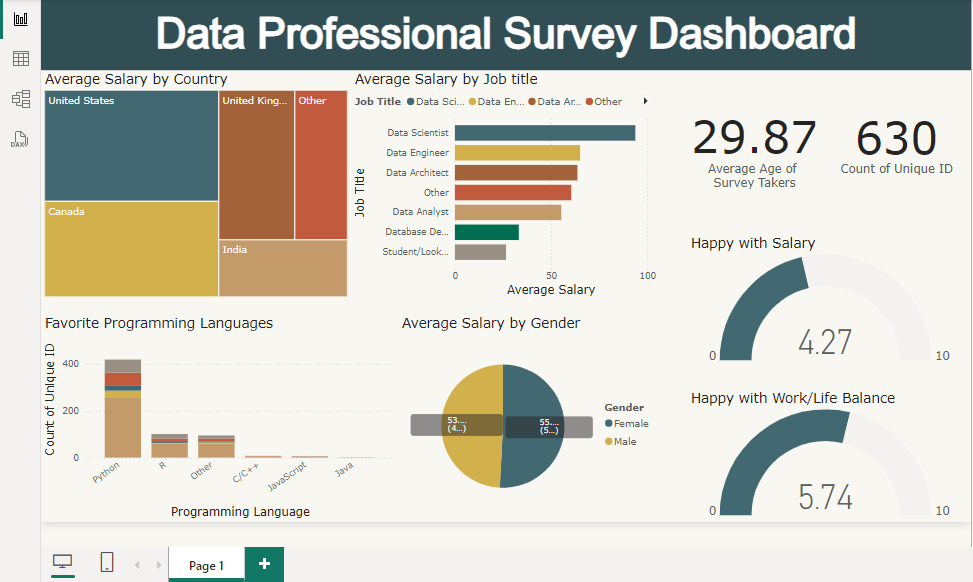

The page's visual inventory and layout, read from the dashboard file:
{"tool":"powerbi","page":{"name":"Page 1","canvas":[1280,720],"ordinal":0},"visuals":[{"type":"card","fields":{"Values":["Avg(Data Professional Survey.Q10 - Current Age)"]},"box":[888.6,98.3,185.5,196.6],"z":1000},{"type":"barChart","title":"Average Salary by Job title","fields":{"Category":["Data Professional Survey.Q1 - Which Title Best Fits your Current Role?.1"],"Y":["Avg(Data Professional Survey.Average Salary)"],"Series":["Data Professional Survey.Q1 - Which Title Best Fits your Current Role?.1"]},"box":[426.7,98.3,424.8,317.2],"z":2000},{"type":"columnChart","title":"Favorite Programming Languages","fields":{"Category":["Data Professional Survey.Q5 - Favorite Programming Language.1"],"Y":["CountNonNull(Data Professional Survey.Unique ID)"],"Series":["Data Professional Survey.Q1 - Which Title Best Fits your Current Role?.1"]},"box":[0,434.1,491.6,285.7],"z":3000},{"type":"treemap","title":"Average Salary by Country","fields":{"Group":["Data Professional Survey.Q11 - Which Country do you live in?.1"],"Values":["Avg(Data Professional Survey.Average Salary)"]},"box":[0,98.3,426.7,317.2],"z":4000},{"type":"gauge","title":"Happy with Salary ","fields":{"Y":["Avg(Data Professional Survey.Q6 - How Happy are you in your Current Position with the following? (Salary))"],"MinValue":["Min(Data Professional Survey.Q6 - How Happy are you in your Current Position with the following? (Salary))"],"MaxValue":["Max(Data Professional Survey.Q6 - How Happy are you in your Current Position with the following? (Salary))"]},"box":[888.6,322.8,391.4,183.7],"z":5000},{"type":"gauge","title":"Happy with Work/Life Balance","fields":{"Y":["Avg(Data Professional Survey.Q6 - How Happy are you in your Current Position with the following? (Work/Life Balance))"],"MinValue":["Min(Data Professional Survey.Q6 - How Happy are you in your Current Position with the following? (Work/Life Balance))"],"MaxValue":["Max(Data Professional Survey.Q6 - How Happy are you in your Current Position with the following? (Work/Life Balance))"]},"box":[888.6,536.1,391.4,183.7],"z":6000},{"type":"pieChart","fields":{"Category":["Data Professional Survey.Q9 - Male/Female?"],"Y":["Avg(Data Professional Survey.Average Salary)"]},"box":[491.6,434.1,359.9,285.7],"z":7000},{"type":"card","fields":{"Values":["Count(Data Professional Survey.Unique ID)"]},"box":[1075,98,205,197],"z":7001},{"type":"textbox","box":[0,0,1280,98.3],"z":7007}]}

Visuals, with their boxes on the page's 1280x720 design canvas (x1, y1, x2, y2). These are canvas units, not pixel positions in the 973x582 screenshot, which may show the page scaled, cropped or inside an application window:
card - Avg(Data Professional Survey.Q10 - Current Age): bbox(889, 98, 1074, 295)
"Average Salary by Job title" barChart: bbox(427, 98, 852, 416)
"Favorite Programming Languages" columnChart: bbox(0, 434, 492, 720)
"Average Salary by Country" treemap: bbox(0, 98, 427, 416)
"Happy with Salary " gauge: bbox(889, 323, 1280, 506)
"Happy with Work/Life Balance" gauge: bbox(889, 536, 1280, 720)
pieChart - Data Professional Survey.Q9 - Male/Female? x Avg(Data Professional Survey.Average Salary): bbox(492, 434, 852, 720)
card - Count(Data Professional Survey.Unique ID): bbox(1075, 98, 1280, 295)
textbox: bbox(0, 0, 1280, 98)
